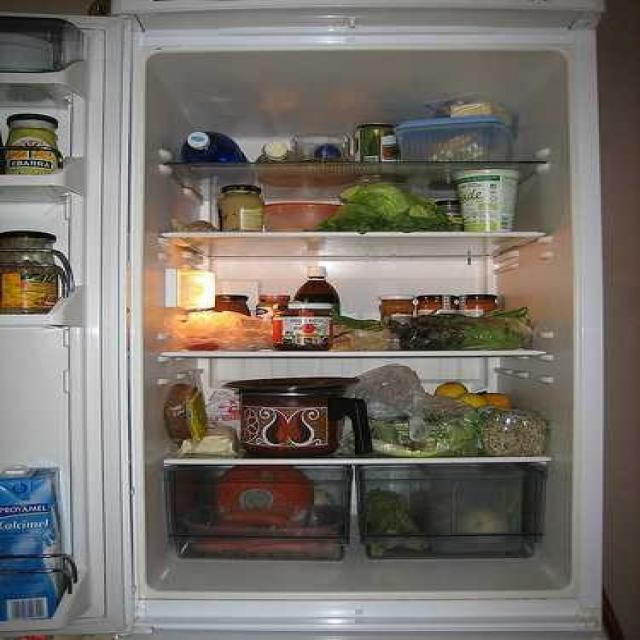refrigerator: (0, 20, 599, 610)
